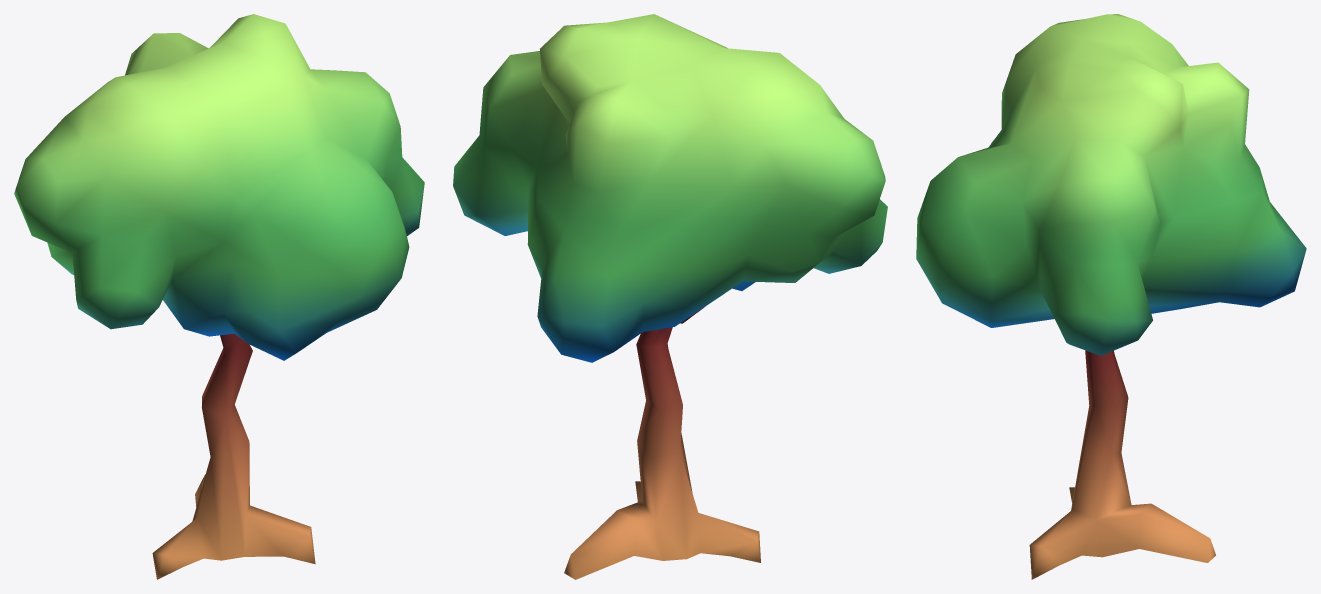
The model's file is W1_Tree.fbx.
3 views of the same model, side by side, from view 1: azimuth 30°, elevation 25°; view 2: azimuth 150°, elevation 25°; view 3: azimuth 270°, elevation 25° (orthographic). The views are drawn at different scales.
Parts seen in each view (by area): view 1: W1_TREE; view 2: W1_TREE; view 3: W1_TREE.
Boxes of the visible parts, x1,y1,x2,y2 form: W1_TREE: [14, 14, 424, 579]; W1_TREE: [453, 14, 887, 579]; W1_TREE: [916, 14, 1306, 579].
Size of the model in its own units: 469 by 564 by 391.
